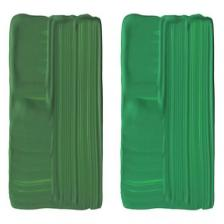green: (9, 14, 102, 209), (121, 14, 214, 209)
